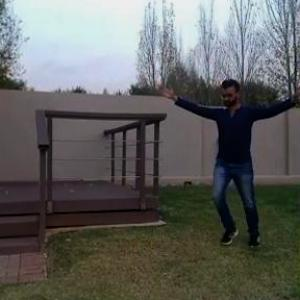takeoff: (151, 78, 299, 244)
